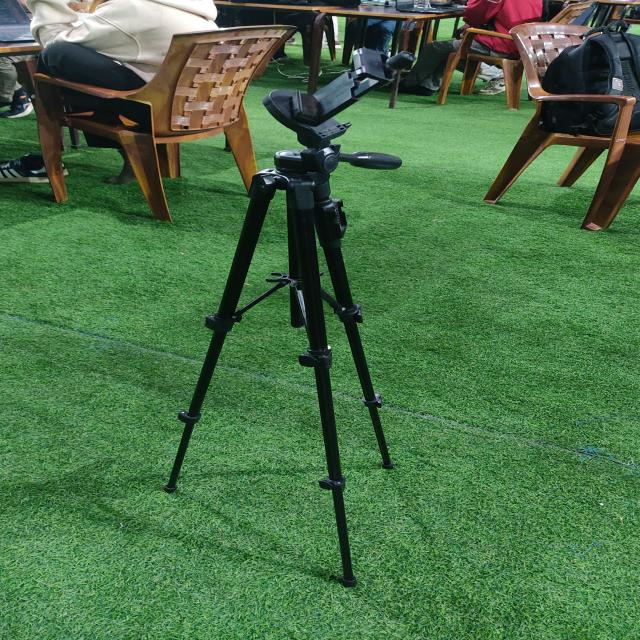Camer Stand: (157, 47, 418, 589)
